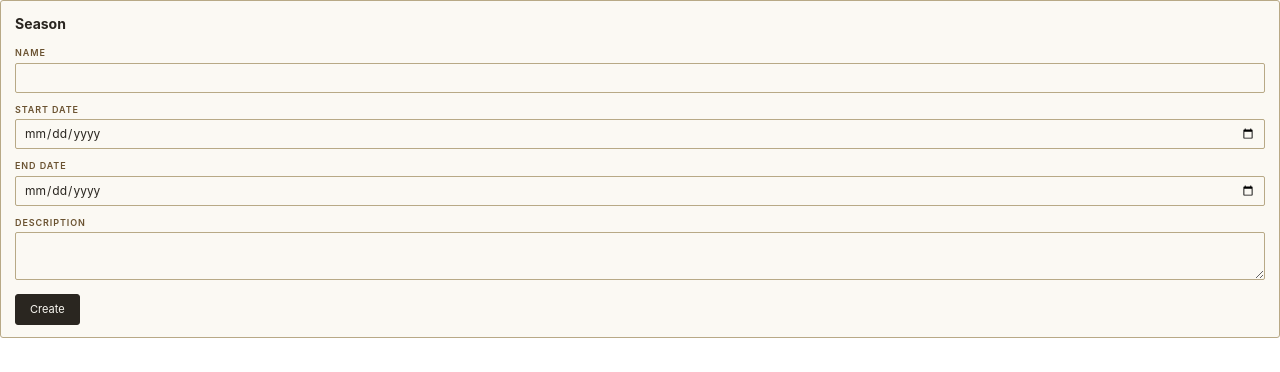
Test: SeasonForm › submit with end-before-start → shows error-end-date and keeps name input value
Type "Autumn 2026" into the field with test id "season-name".
click(640, 78); type("Autumn 2026")  # box [15, 62, 1265, 92]
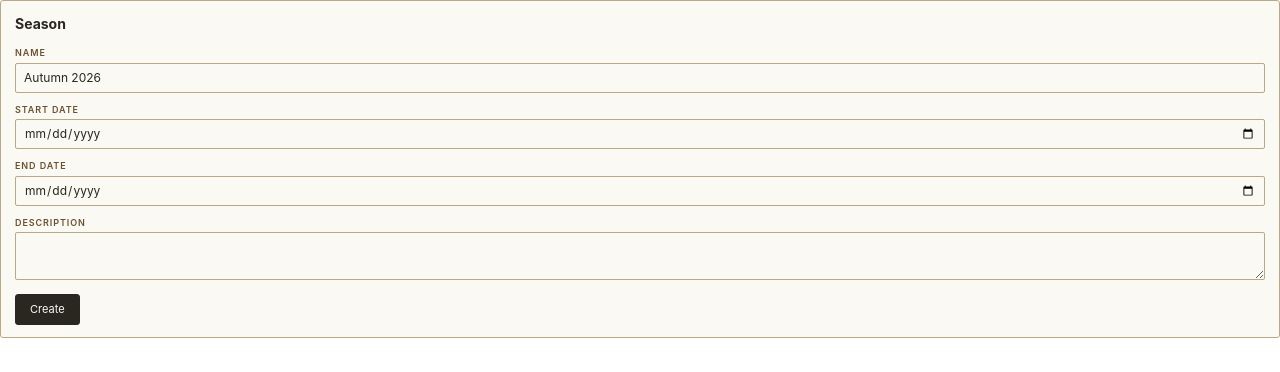
Type "2026-09-01" into the date field with test id "season-start-date".
click(640, 134); type("2026-09-01")  # box [15, 119, 1265, 149]
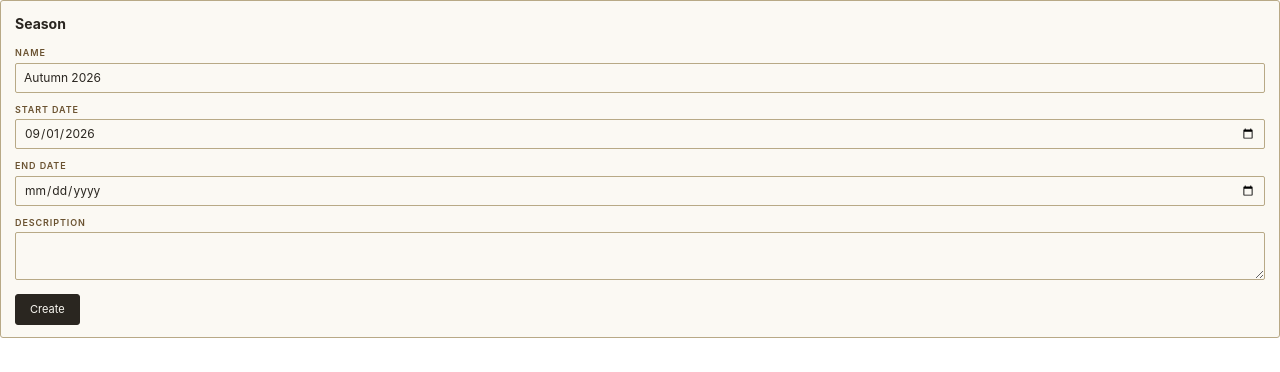
Type "2026-08-31" into the date field with test id "season-end-date".
click(640, 190); type("2026-08-31")  # box [15, 176, 1265, 206]
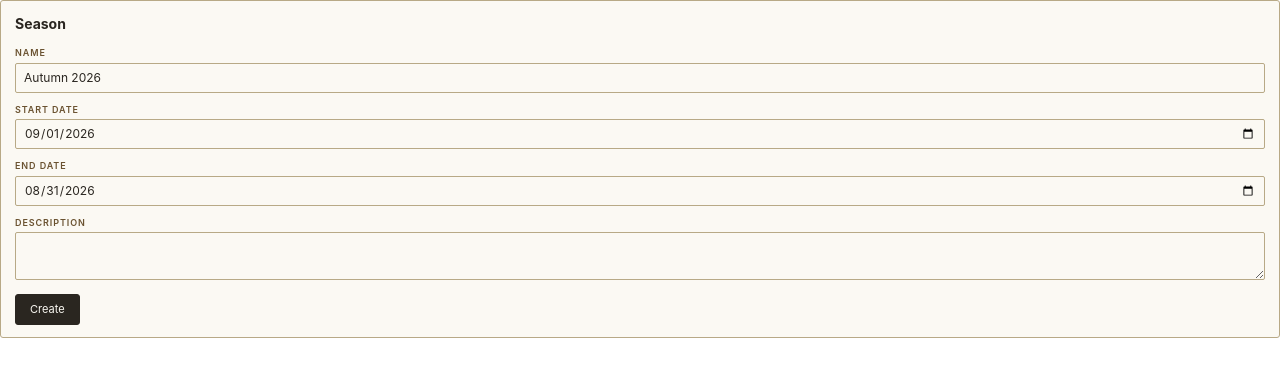
Click the button with test id "season-submit".
click(47, 309)  # box [15, 294, 80, 324]
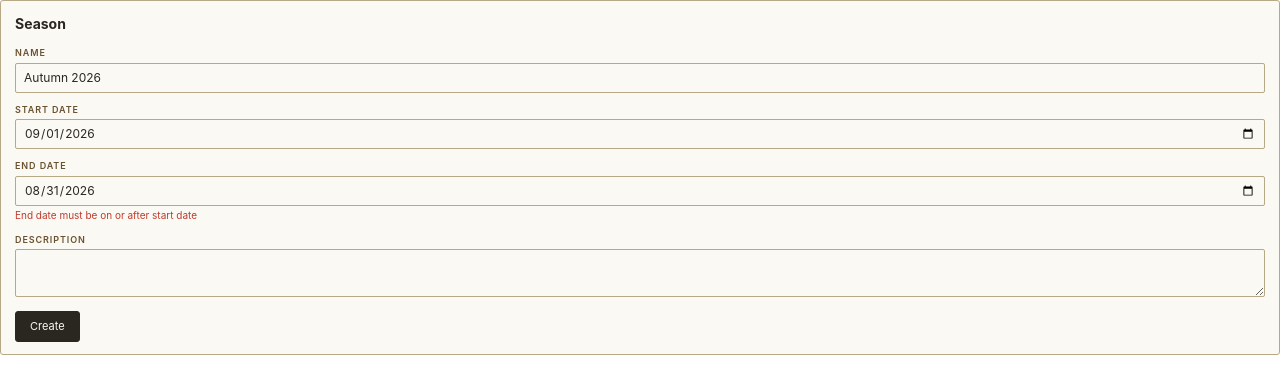
Expected: the text "End date must be on or after start date" is shown, [15, 208, 197, 220]
